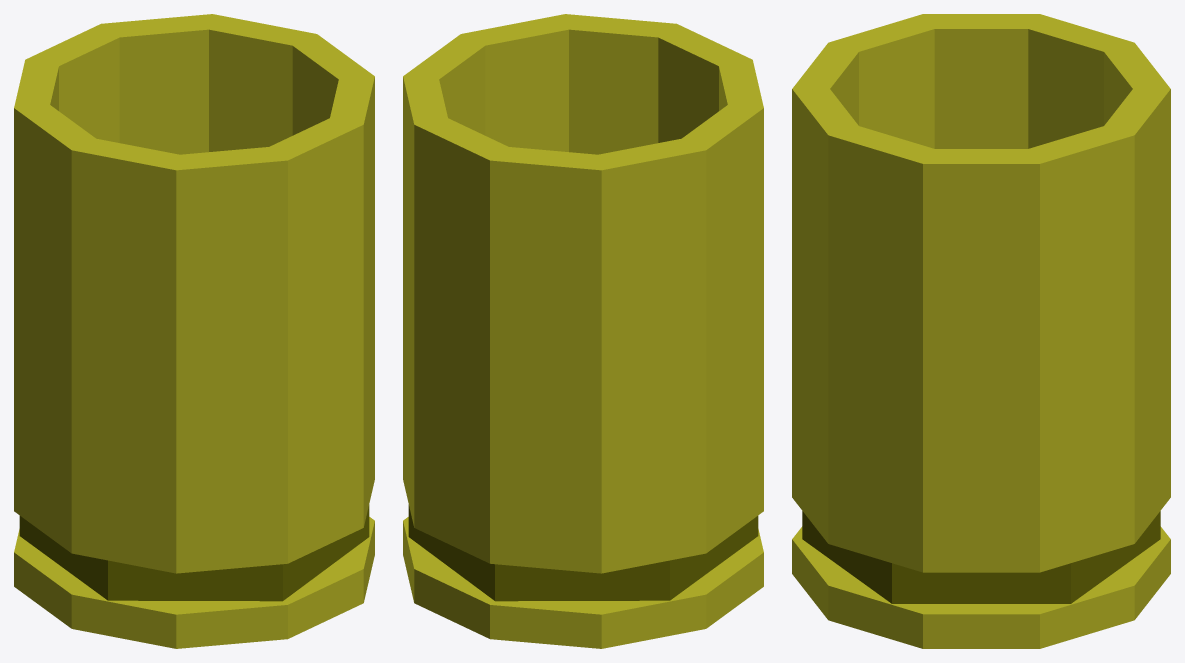
Rendered from HGkarayakkyou.fbx.
3 renders of one model, left to right at view 1: azimuth 30°, elevation 25°; view 2: azimuth 150°, elevation 25°; view 3: azimuth 270°, elevation 25°, orthographic.
Parts seen in each view (by area): view 1: HGkarayakkyou; view 2: HGkarayakkyou; view 3: HGkarayakkyou.
Part boxes in pixels (x1,y1,x2,y2): HGkarayakkyou: (14,14,374,648); HGkarayakkyou: (403,14,763,648); HGkarayakkyou: (792,14,1170,648).
Size of the model in its own units: 21.62 by 32.61 by 23.07.
